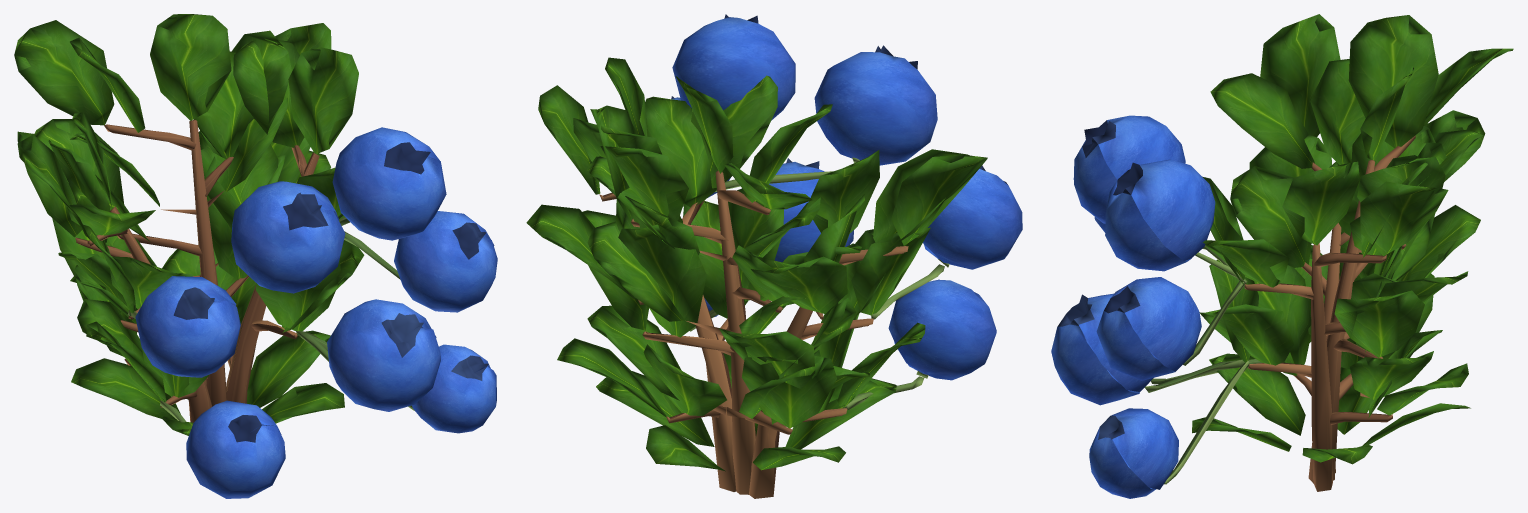
File: NP_Blueberry_Ready_LOD1.fbx
3 renders of one model, left to right at view 1: azimuth 30°, elevation 25°; view 2: azimuth 150°, elevation 25°; view 3: azimuth 270°, elevation 25°, orthographic. The views are drawn at different scales.
Parts seen in each view (by area): view 1: NP_Blueberry_Ready; view 2: NP_Blueberry_Ready; view 3: NP_Blueberry_Ready.
Part boxes in pixels (x1,y1,x2,y2): NP_Blueberry_Ready: [14, 14, 497, 498]; NP_Blueberry_Ready: [526, 14, 1022, 498]; NP_Blueberry_Ready: [1051, 14, 1513, 498].
Bounding box in the file's own units: 91.41 × 89.37 × 90.8.
